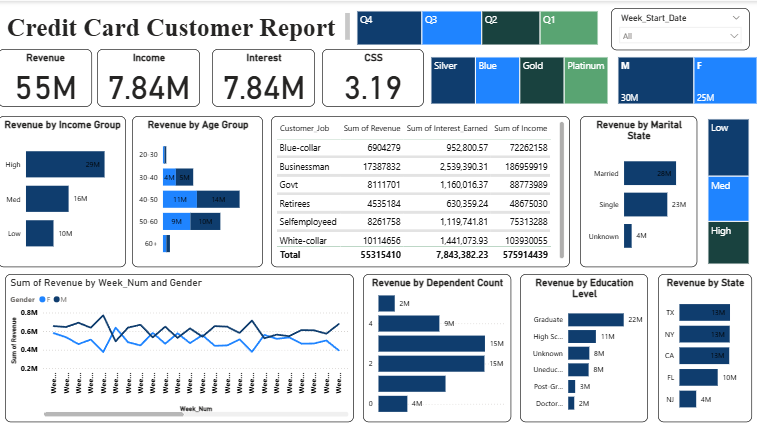

What the dashboard file says about the page in this screenshot:
{"tool":"powerbi","page":{"name":"Customer Dashboard","canvas":[1280,720],"ordinal":1},"visuals":[{"type":"textbox","box":[10.1,15.1,586.2,57.1],"z":0},{"type":"slicer","fields":{"Values":["credit_card.Week_Start_Date"]},"box":[1029.7,11.8,233.5,70.6],"z":1000},{"type":"treemap","fields":{"Group":["credit_card.Qtr"],"Values":["Avg(credit_card.Client_Num)"]},"box":[598,11.8,414.9,67.2],"z":2000},{"type":"treemap","fields":{"Group":["credit_card.Card_Category"],"Values":["Avg(credit_card.Client_Num)"]},"box":[722.3,89,307.4,89],"z":3000},{"type":"treemap","fields":{"Group":["customer.IncomeGroup"],"Values":["CountNonNull(credit_card.Client_Num)"]},"box":[1187.6,193.2,79,253.6],"z":4000},{"type":"barChart","title":"Revenue by Income Group","fields":{"Y":["Sum(credit_card.Revenue)"],"Category":["customer.IncomeGroup"]},"box":[0,193.2,215,253.6],"z":5000},{"type":"tableEx","fields":{"Values":["customer.Customer_Job","Sum(credit_card.Revenue)","Sum(credit_card.Interest_Earned)","Sum(customer.Income)"]},"box":[458.6,193.2,502.3,253.6],"z":6000},{"type":"card","title":"Revenue","fields":{"Values":["Sum(credit_card.Revenue)"]},"box":[0,80.6,157.9,97.4],"z":7000},{"type":"card","title":"Income","fields":{"Values":["Sum(credit_card.Interest_Earned)"]},"box":[166.3,80.6,173,97.4],"z":8000},{"type":"card","title":"Interest","fields":{"Values":["Sum(credit_card.Interest_Earned)"]},"box":[359.5,80.6,173,97.4],"z":9000},{"type":"card","title":"CSS","fields":{"Values":["Avg(customer.Cust_Satisfaction_Score)"]},"box":[544.3,80.6,171.3,97.4],"z":10000},{"type":"lineChart","fields":{"Category":["credit_card.Week_Num"],"Y":["Sum(credit_card.Revenue)"],"Series":["customer.Gender"]},"box":[11.8,458.6,586.2,248.6],"z":11000},{"type":"treemap","fields":{"Group":["customer.Gender"],"Values":["Sum(credit_card.Revenue)"]},"box":[1036.4,89,243.6,89],"z":12000},{"type":"barChart","title":"Revenue by Age Group","fields":{"Y":["Sum(credit_card.Revenue)"],"Category":["customer.AgeGroup"],"Series":["customer.Gender"]},"box":[225.1,193.2,220.1,253.6],"z":13000},{"type":"barChart","title":"Revenue by Dependent Count","fields":{"Y":["Sum(credit_card.Revenue)"],"Category":["customer.Dependent_Count"]},"box":[613.1,458.6,248.6,248.6],"z":14000},{"type":"barChart","title":"Revenue by Education Level","fields":{"Y":["Sum(credit_card.Revenue)"],"Category":["customer.Education_Level"]},"box":[876.9,458.6,215,248.6],"z":15000},{"type":"barChart","title":"Revenue by State","fields":{"Y":["Sum(credit_card.Revenue)"],"Category":["customer.state_cd"]},"box":[1108.7,458.6,157.9,248.6],"z":16000},{"type":"barChart","title":"Revenue by Marital State","fields":{"Y":["Sum(credit_card.Revenue)"],"Category":["customer.Marital_Status"]},"box":[977.6,193.2,196.5,253.6],"z":17000}]}

Visuals, with their boxes in screenshot pixels (x1, y1, x2, y2), scaled from the page's 1280x720 canvas onto the 757x428 screenshot:
textbox: detection(6, 9, 353, 43)
slicer - credit_card.Week_Start_Date: detection(609, 7, 747, 49)
treemap - credit_card.Qtr x Avg(credit_card.Client_Num): detection(354, 7, 599, 47)
treemap - credit_card.Card_Category x Avg(credit_card.Client_Num): detection(427, 53, 609, 106)
treemap - customer.IncomeGroup x CountNonNull(credit_card.Client_Num): detection(702, 115, 749, 266)
"Revenue by Income Group" barChart: detection(0, 115, 127, 266)
tableEx - customer.Customer_Job x Sum(credit_card.Revenue): detection(271, 115, 568, 266)
"Revenue" card: detection(0, 48, 93, 106)
"Income" card: detection(98, 48, 201, 106)
"Interest" card: detection(213, 48, 315, 106)
"CSS" card: detection(322, 48, 423, 106)
lineChart - credit_card.Week_Num x Sum(credit_card.Revenue): detection(7, 273, 354, 420)
treemap - customer.Gender x Sum(credit_card.Revenue): detection(613, 53, 756, 106)
"Revenue by Age Group" barChart: detection(133, 115, 263, 266)
"Revenue by Dependent Count" barChart: detection(363, 273, 510, 420)
"Revenue by Education Level" barChart: detection(519, 273, 646, 420)
"Revenue by State" barChart: detection(656, 273, 749, 420)
"Revenue by Marital State" barChart: detection(578, 115, 694, 266)
